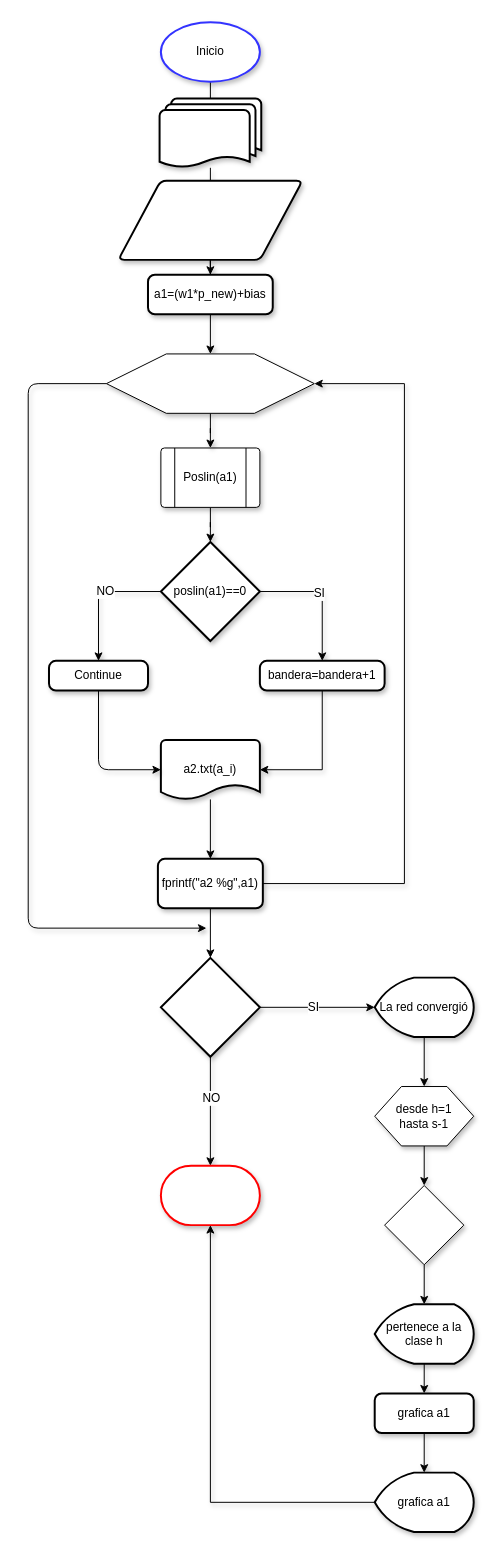
The diagram is 498 pixels wide and 1556 high, and some of its shapes have lost their labels. The shapes that lost their labels are listed below. From the top down, each one's centre as x and y in pixels, then its label:
At point (211, 134): "w1.txt p_new.txt a2.txt".
At point (211, 221): "w1 p_new bias w2 iteraciones = 100".
At point (210, 384): "Desde E= 0 hasta iteraciones".
At point (210, 1008): "bandera ==s-1".
At point (210, 1196): "Fin".
At point (425, 1226): "a1(h,1)!= 0".
